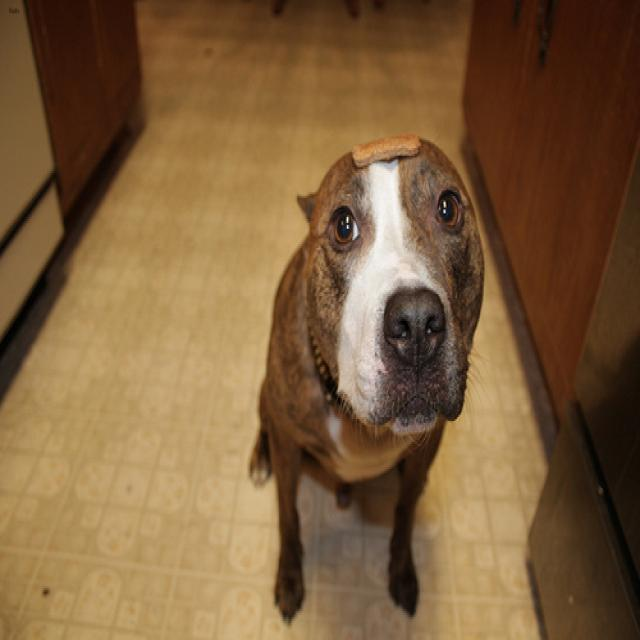dog-american_pit_bull_terrier: (241, 119, 490, 632)
